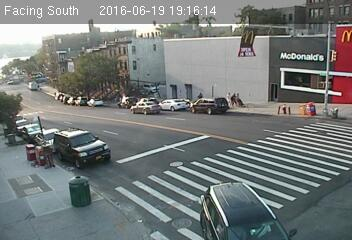neg: (1, 123, 18, 148), (11, 76, 18, 85)
pos: (234, 91, 248, 110), (227, 94, 239, 110), (223, 89, 234, 104)
